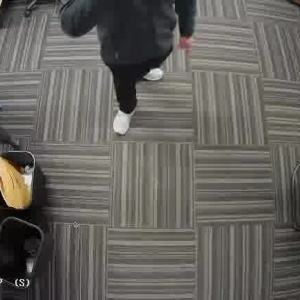person: (80, 0, 187, 136)
